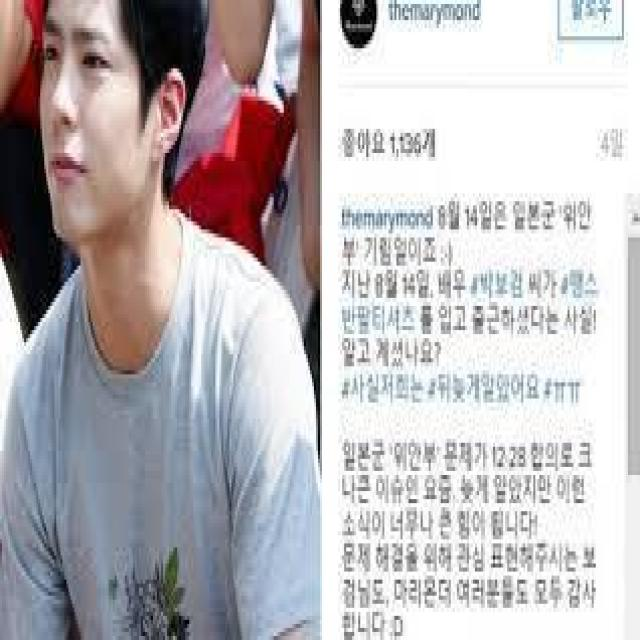Tshirt: (0, 209, 318, 640)
